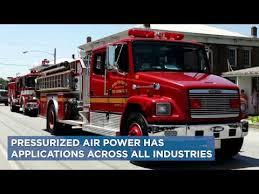Fire-engine: (36, 33, 259, 145)
